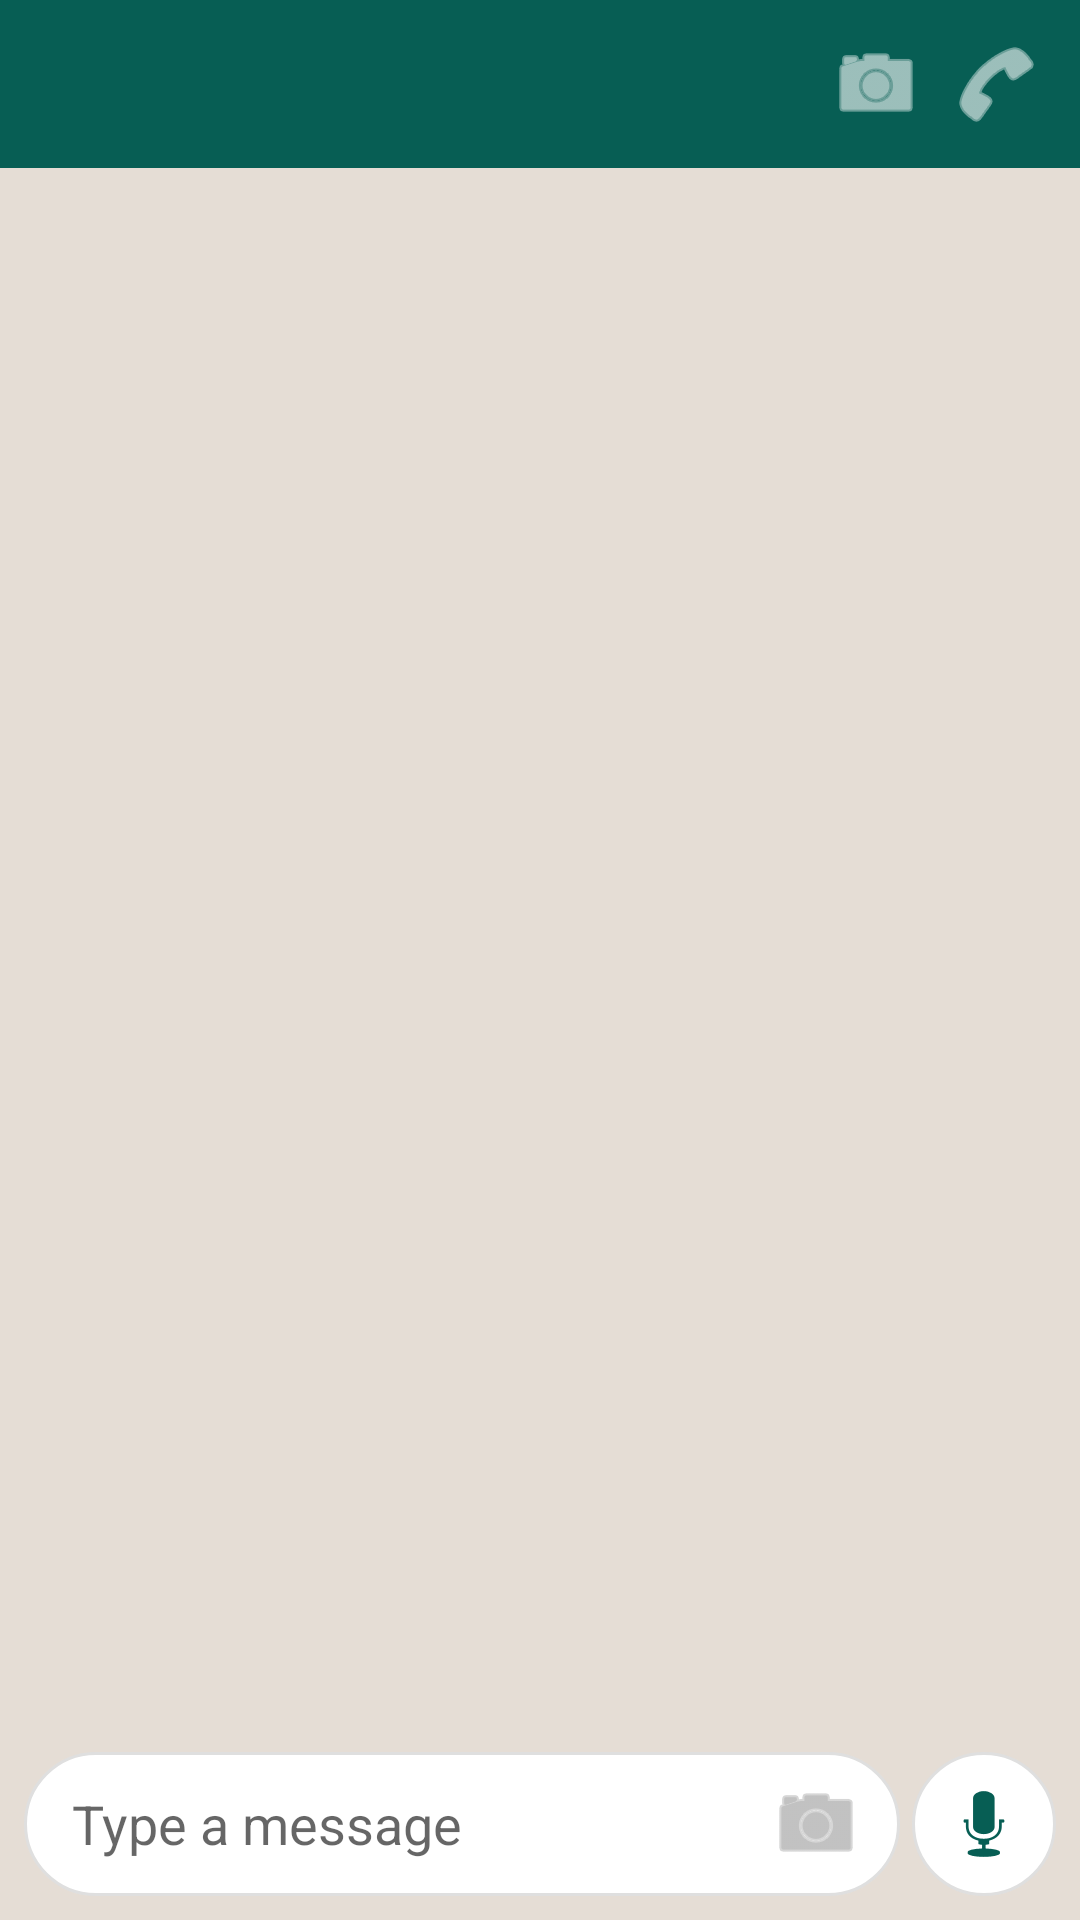

Where icons sit on this 1080px×1920px app screen, as bbox=(x1, y1, x2, y2):
Record Voice Message: bbox=(915, 1755, 1053, 1893)
Select Media: bbox=(779, 1793, 853, 1852)
Voice Call: bbox=(959, 47, 1034, 122)
